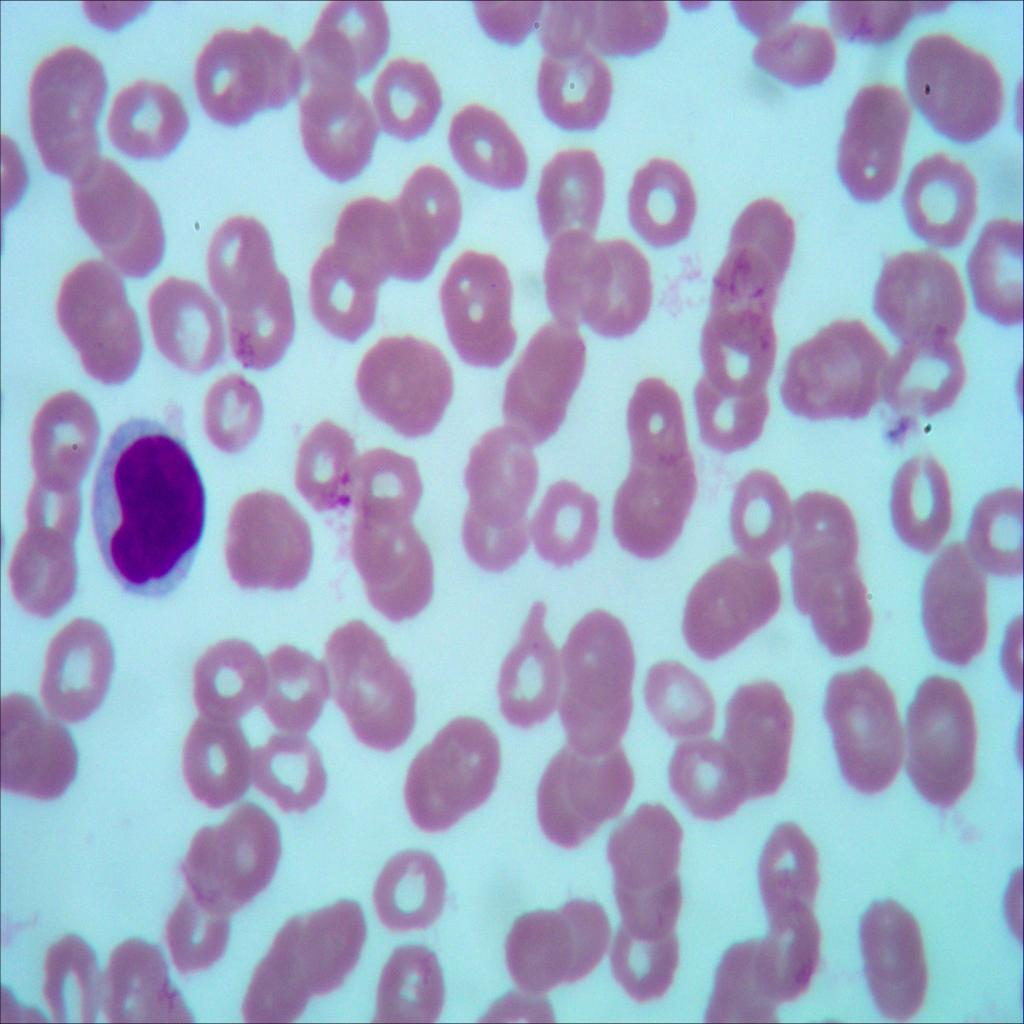Limfoblast: (82, 418, 211, 607)
